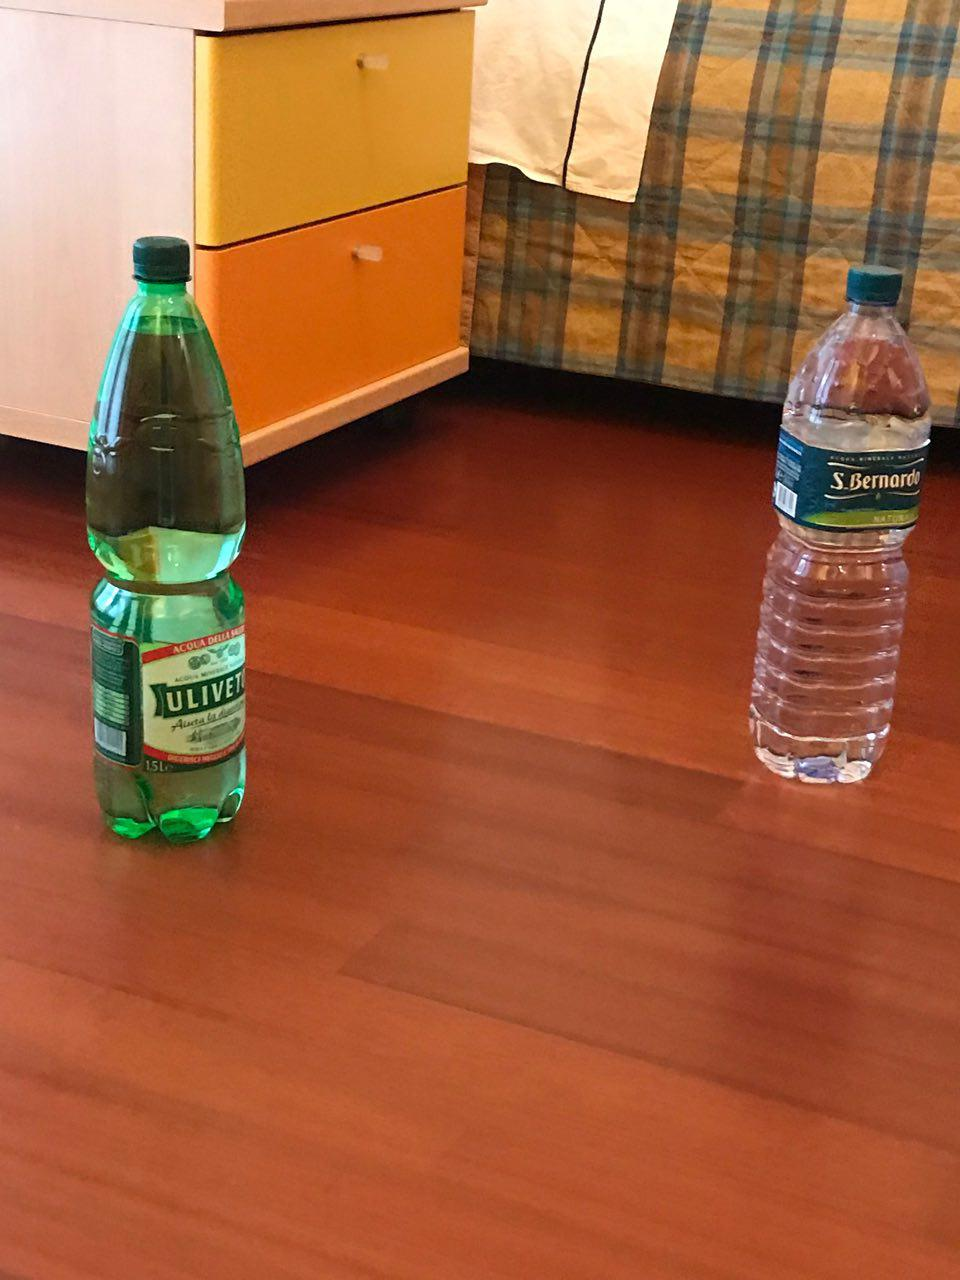san_bernardo: (747, 264, 933, 784)
